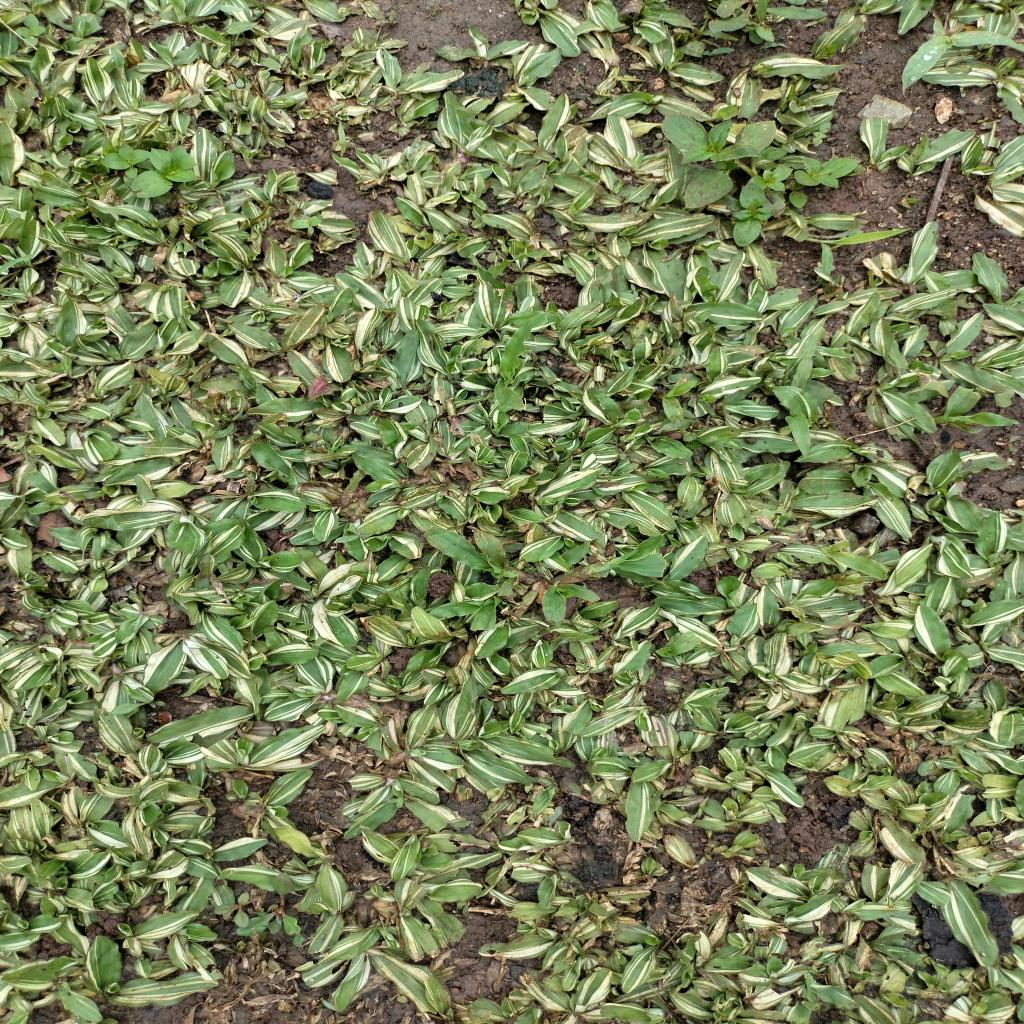gingseng jawa: (234, 870, 304, 941), (214, 889, 257, 928)
rambat atas: (898, 29, 1024, 94)
rambat bawah: (421, 522, 547, 586), (549, 533, 681, 585), (490, 316, 539, 414), (932, 385, 1022, 436), (433, 586, 533, 627), (536, 577, 602, 634)
ungu tunggang: (662, 111, 862, 244), (102, 145, 201, 197)
